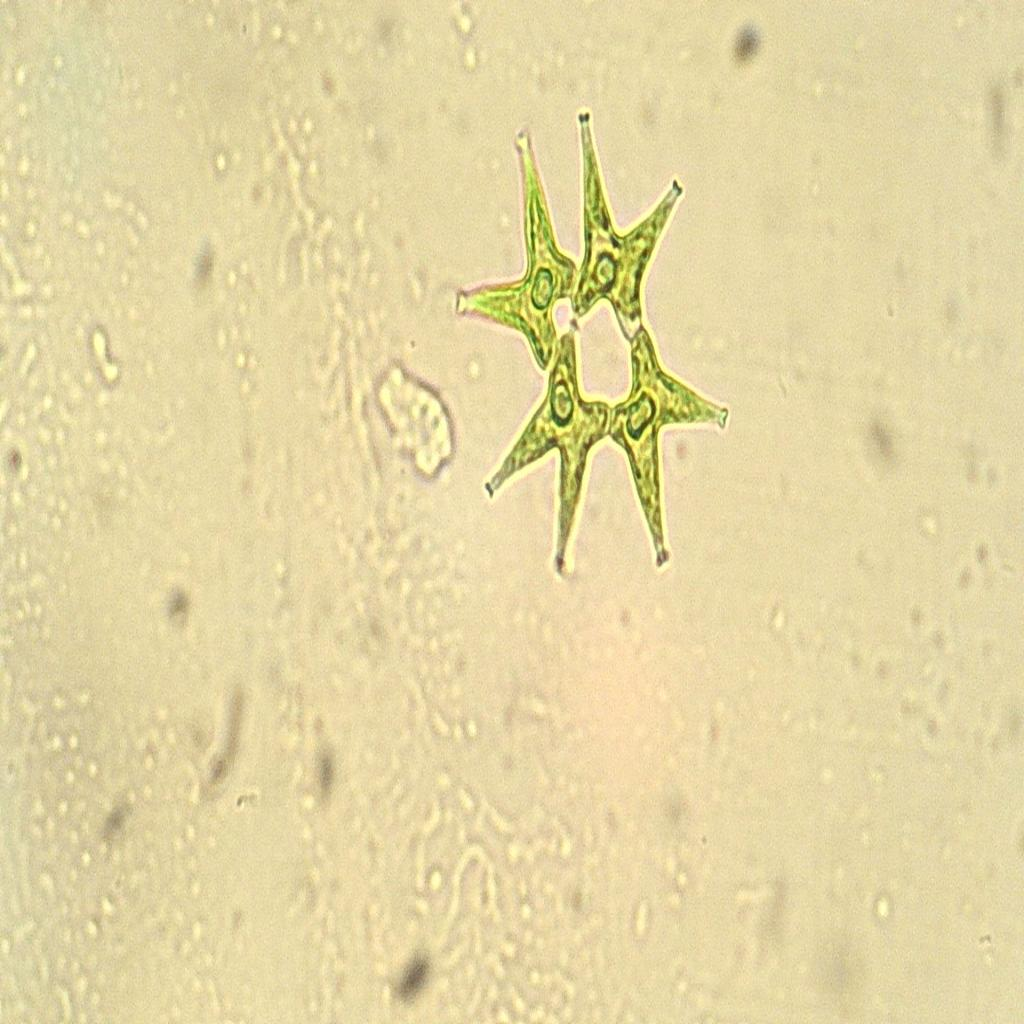Pediastrum_75FO: (440, 67, 748, 615)
